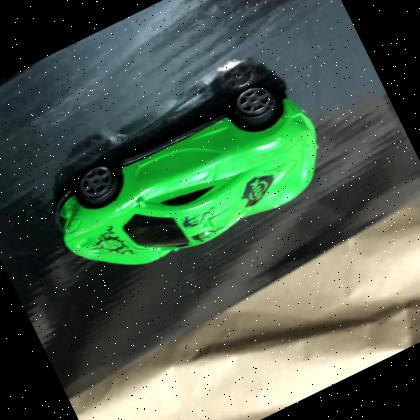Car: (52, 81, 317, 264)
